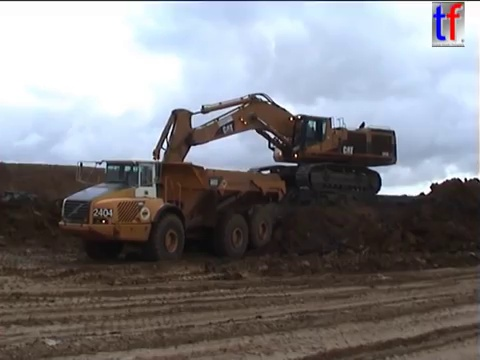excavator: (130, 90, 401, 223)
truck: (55, 152, 289, 264)
